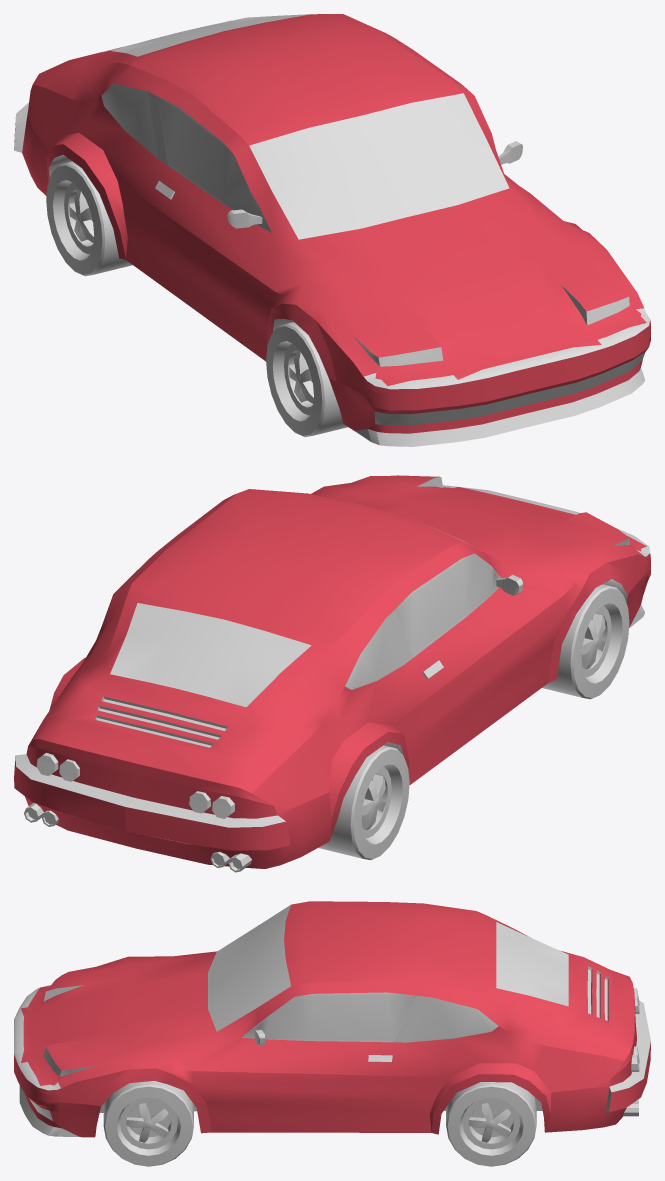
File: Car.fbx
3 renders of one model, top to bottom at view 1: azimuth 30°, elevation 25°; view 2: azimuth 150°, elevation 25°; view 3: azimuth 270°, elevation 25°, orthographic. The views are drawn at different scales.
Parts seen in each view (by area): view 1: Body, FrontRightWheel, RearRightWheel; view 2: Body, RearRightWheel, FrontRightWheel; view 3: Body, FrontLeftWheel, RearLeftWheel.
Boxes of the visible parts, x1,y1,x2,y2 form: Body: (14,14,650,446); FrontRightWheel: (266,322,347,437); RearRightWheel: (46,161,132,276); Body: (14,475,650,872); RearRightWheel: (318,745,409,860); FrontRightWheel: (542,584,629,699); Body: (14,901,650,1137); FrontLeftWheel: (103,1081,193,1166); RearLeftWheel: (446,1082,536,1166).
Bounding box in the file's own units: 2.02 × 1.41 × 4.64.
